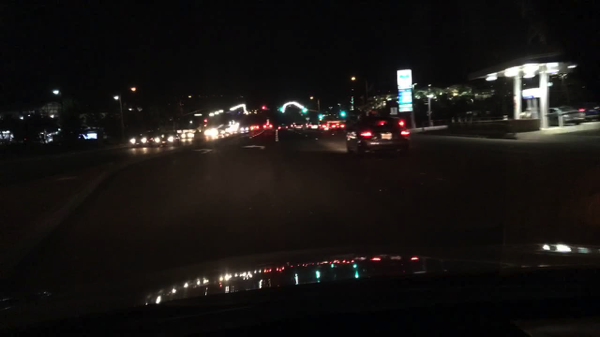car: (344, 117, 411, 157), (546, 106, 585, 128), (153, 132, 182, 147), (513, 107, 537, 121), (580, 107, 599, 123), (130, 135, 149, 147), (204, 128, 221, 139), (224, 126, 240, 135), (330, 122, 346, 130), (290, 122, 304, 131), (180, 131, 195, 139), (276, 123, 290, 131), (262, 123, 274, 131), (319, 124, 331, 132), (239, 126, 250, 134), (306, 122, 318, 129), (251, 125, 259, 132)
traffic light: (339, 109, 346, 118), (300, 108, 308, 114), (203, 117, 207, 124), (319, 114, 323, 120), (278, 107, 282, 113), (262, 105, 266, 111)
traffic sign: (390, 108, 397, 116)
